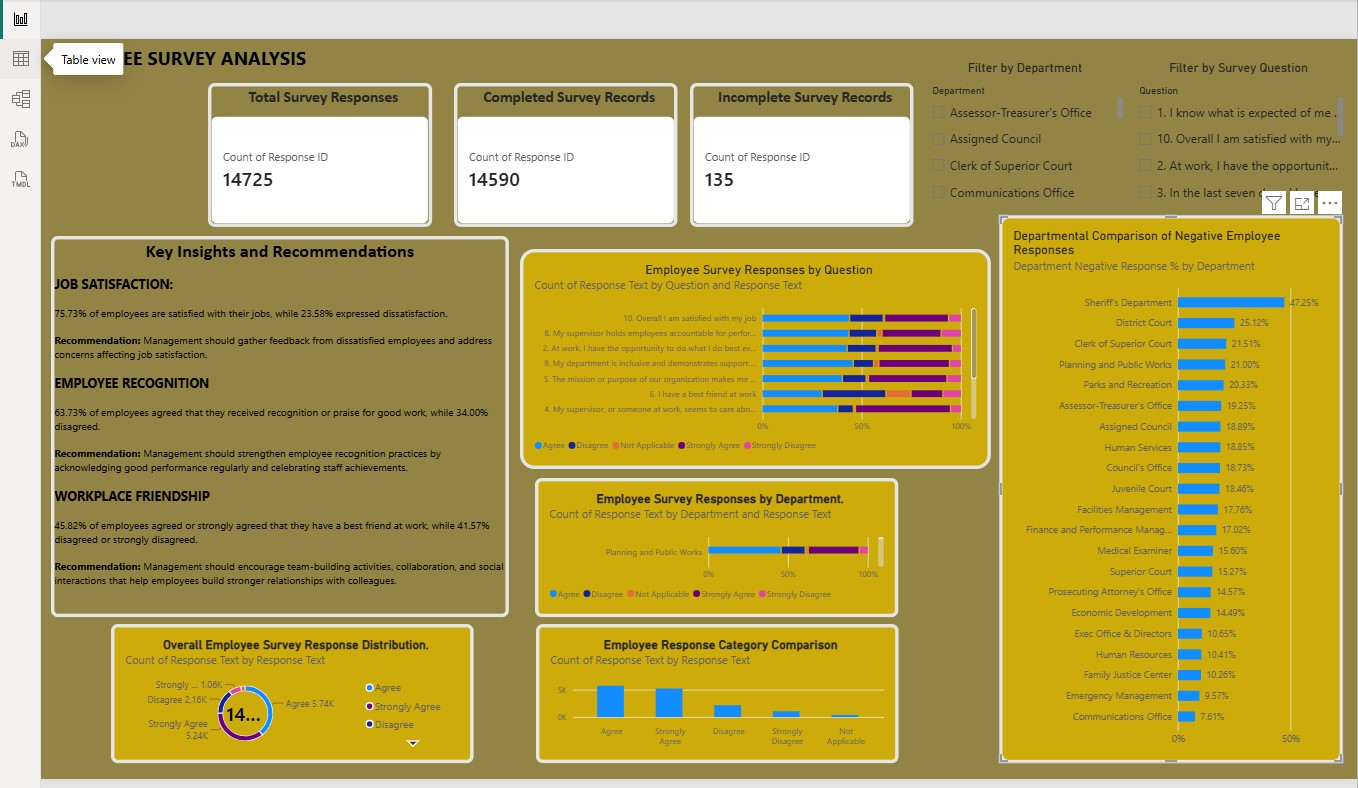

The page's visual inventory and layout, read from the dashboard file:
{"tool":"powerbi","page":{"name":"Page 1","canvas":[1920,1080],"ordinal":0},"visuals":[{"type":"hundredPercentStackedBarChart","title":"Employee Survey Responses by Question","fields":{"Category":["HR Survey Reponses.Question"],"Series":["HR Survey Reponses.Response Text"],"Y":["CountNonNull(HR Survey Reponses.Response Text)"]},"box":[698.8,268.4,687.2,321],"z":0},{"type":"hundredPercentStackedBarChart","title":"Employee Survey Responses by Department.","fields":{"Category":["HR Survey Reponses.Department"],"Series":["HR Survey Reponses.Response Text"],"Y":["CountNonNull(HR Survey Reponses.Response Text)"]},"box":[698.8,621.5,529.6,202.8],"z":1},{"type":"donutChart","title":" Overall Employee Survey Response Distribution.","fields":{"Category":["HR Survey Reponses.Response Text"],"Y":["CountNonNull(HR Survey Reponses.Response Text)"]},"box":[122.6,853.5,480,202.8],"z":2},{"type":"cardVisual","title":"Total Survey Responses","fields":{"Data":["CountNonNull(HR Survey Reponses.Response ID)"]},"box":[83.2,30.6,326.8,210.1],"z":3},{"type":"cardVisual","title":"Completed Survey Records","fields":{"Data":["CountNonNull(HR Survey Reponses.Response ID)"]},"box":[465.4,30.6,326,210],"z":4},{"type":"cardVisual","title":"Incomplete Survey Records","fields":{"Data":["CountNonNull(HR Survey Reponses.Response ID)"]},"box":[833.1,30.6,326,210.1],"z":5},{"type":"clusteredColumnChart","title":"Employee Response Category Comparison","fields":{"Category":["HR Survey Reponses.Response Text"],"Y":["CountNonNull(HR Survey Reponses.Response Text)"]},"box":[719.3,853.5,480,202.8],"z":6},{"type":"slicer","title":"Filter by Department","fields":{"Values":["HR Survey Reponses.Department"]},"box":[1213.9,30.6,286,210.1],"z":7},{"type":"slicer","title":"Filter by Survey Question","fields":{"Values":["HR Survey Reponses.Question"]},"box":[1526.1,30.6,305,210],"z":8},{"type":"textbox","box":[0,268.4,668.2,555.9],"z":10},{"type":"clusteredBarChart","title":"Departmental Comparison of Negative Employee Responses","fields":{"Category":["HR Survey Responses.Department"],"Y":["Data Dictionary.Department Negative Response %"]},"box":[1397.7,256.8,501.9,822.9],"z":11}]}

Visuals, with their boxes on the page's 1920x1080 design canvas (x1, y1, x2, y2). These are canvas units, not pixel positions in the 1358x788 screenshot, which may show the page scaled, cropped or inside an application window:
"Employee Survey Responses by Question" hundredPercentStackedBarChart: x1=699 y1=268 x2=1386 y2=589
"Employee Survey Responses by Department." hundredPercentStackedBarChart: x1=699 y1=622 x2=1228 y2=824
" Overall Employee Survey Response Distribution." donutChart: x1=123 y1=854 x2=603 y2=1056
"Total Survey Responses" cardVisual: x1=83 y1=31 x2=410 y2=241
"Completed Survey Records" cardVisual: x1=465 y1=31 x2=791 y2=241
"Incomplete Survey Records" cardVisual: x1=833 y1=31 x2=1159 y2=241
"Employee Response Category Comparison" clusteredColumnChart: x1=719 y1=854 x2=1199 y2=1056
"Filter by Department" slicer: x1=1214 y1=31 x2=1500 y2=241
"Filter by Survey Question" slicer: x1=1526 y1=31 x2=1831 y2=241
textbox: x1=0 y1=268 x2=668 y2=824
"Departmental Comparison of Negative Employee Responses" clusteredBarChart: x1=1398 y1=257 x2=1900 y2=1080
